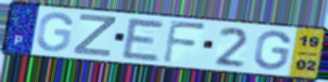2: (214, 26, 251, 68)
E: (120, 16, 168, 63)
F: (161, 19, 208, 65)
G: (252, 29, 293, 72), (34, 11, 75, 53)
Z: (71, 12, 119, 58)
